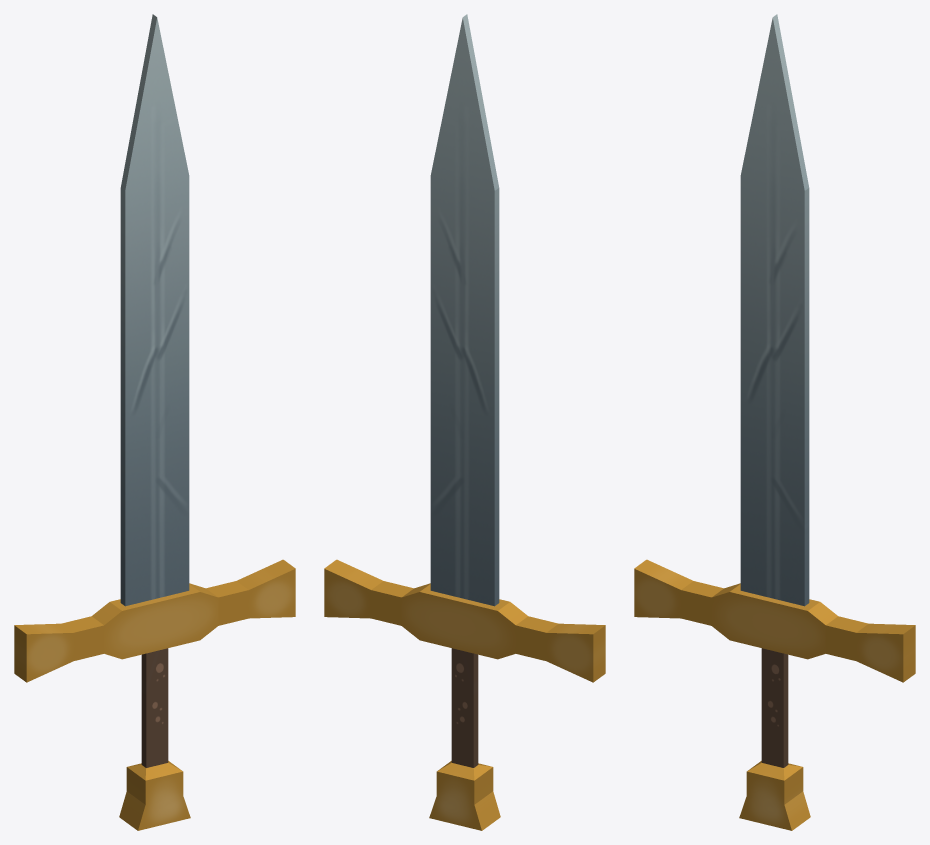
Rendered from knight-sword-new.fbx.
3 views of the same model, side by side, from view 1: azimuth 30°, elevation 25°; view 2: azimuth 150°, elevation 25°; view 3: azimuth 330°, elevation 25° (orthographic).
Visible parts, largest first — view 1: pCube12; view 2: pCube12; view 3: pCube12.
Part boxes in pixels (box(x1,y1,x2,y2)): pCube12: box(14, 14, 295, 830); pCube12: box(324, 14, 605, 830); pCube12: box(634, 14, 915, 830).
Size of the model in its own units: 0.5754 by 1.64 by 0.0697.
Materials: 1 (1 with a texture image).
